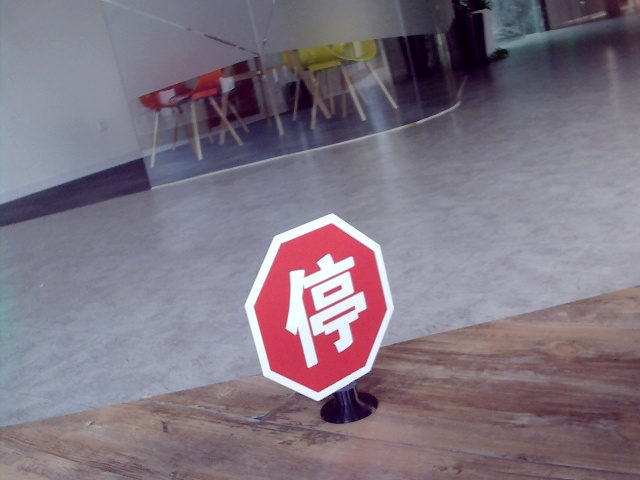stop: (283, 257, 364, 364)
